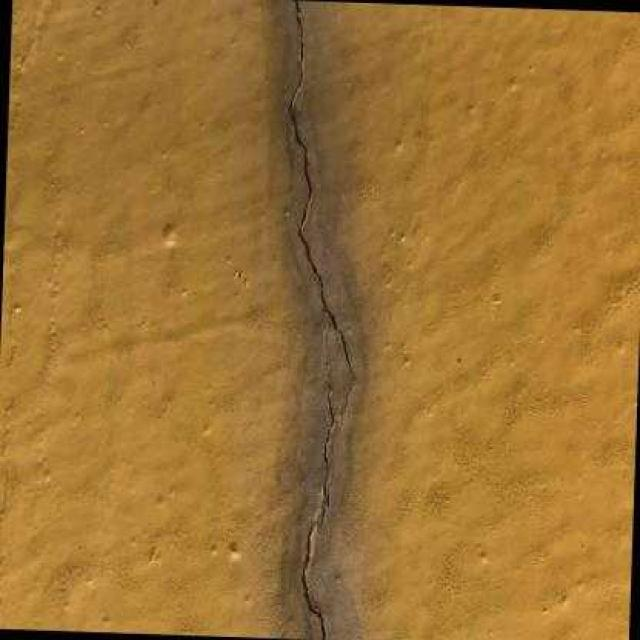D00: (289, 0, 354, 411), (301, 368, 334, 640)
